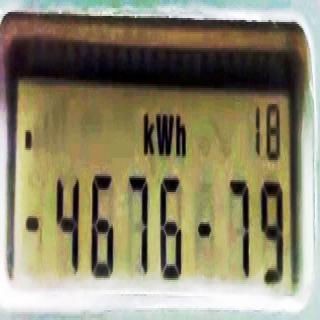-: (197, 213, 212, 247), (26, 206, 40, 239), (23, 126, 33, 155)
1: (254, 96, 262, 162)
4: (55, 168, 82, 280)
6: (89, 166, 116, 286), (158, 167, 184, 288)
7: (229, 168, 251, 289), (128, 167, 150, 285)
8: (265, 96, 281, 166)
9: (259, 172, 287, 292)
